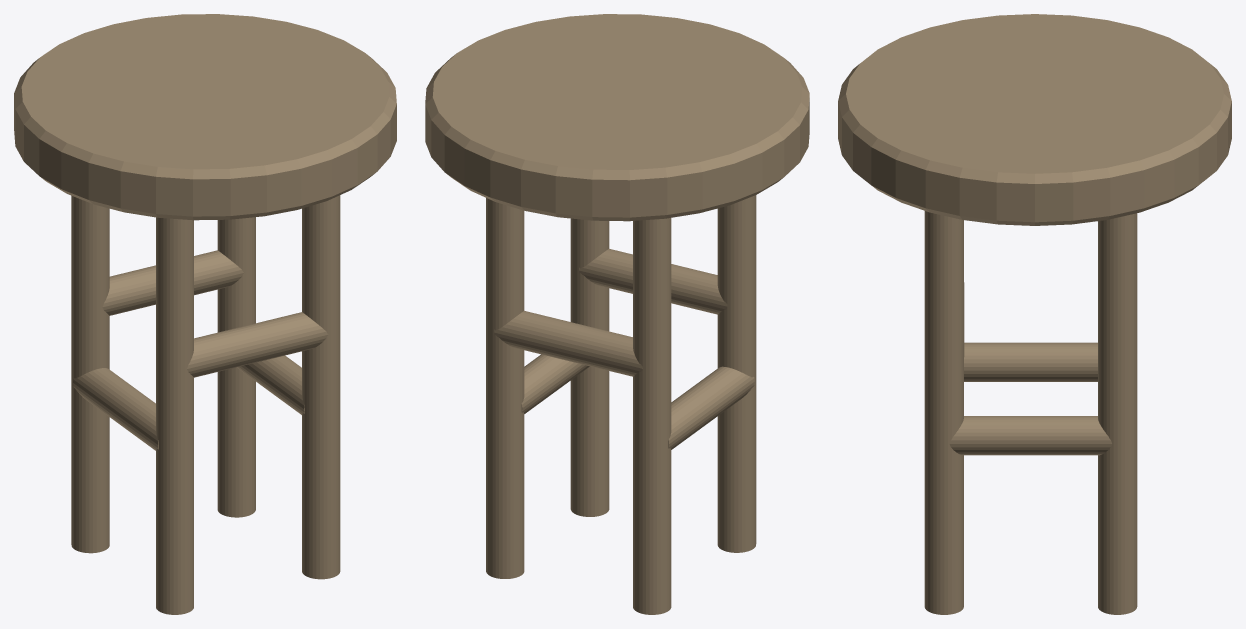
File: Stool 1.fbx
3 views of the same model, side by side, from view 1: azimuth 30°, elevation 25°; view 2: azimuth 150°, elevation 25°; view 3: azimuth 270°, elevation 25° (orthographic). The views are drawn at different scales.
Parts seen in each view (by area): view 1: Cylinder, Cylinder.001, Cylinder.002, Cylinder.003; view 2: Cylinder, Cylinder.001, Cylinder.002, Cylinder.003; view 3: Cylinder, Cylinder.001, Cylinder.003.
Boxes of the visible parts, left/top/right/bottom form: Cylinder: left=14, top=14, right=396, bottom=220; Cylinder.001: left=71, top=195, right=340, bottom=614; Cylinder.002: left=102, top=250, right=328, bottom=377; Cylinder.003: left=73, top=355, right=304, bottom=450; Cylinder: left=425, top=14, right=809, bottom=221; Cylinder.001: left=486, top=195, right=756, bottom=614; Cylinder.002: left=494, top=248, right=727, bottom=376; Cylinder.003: left=521, top=354, right=754, bottom=449; Cylinder: left=838, top=14, right=1231, bottom=225; Cylinder.001: left=924, top=211, right=1137, bottom=614; Cylinder.003: left=949, top=342, right=1111, bottom=455.
Bounding box in the file's own units: 200 × 267 × 200.
